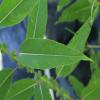Peach leaf: (17, 37, 94, 72)
